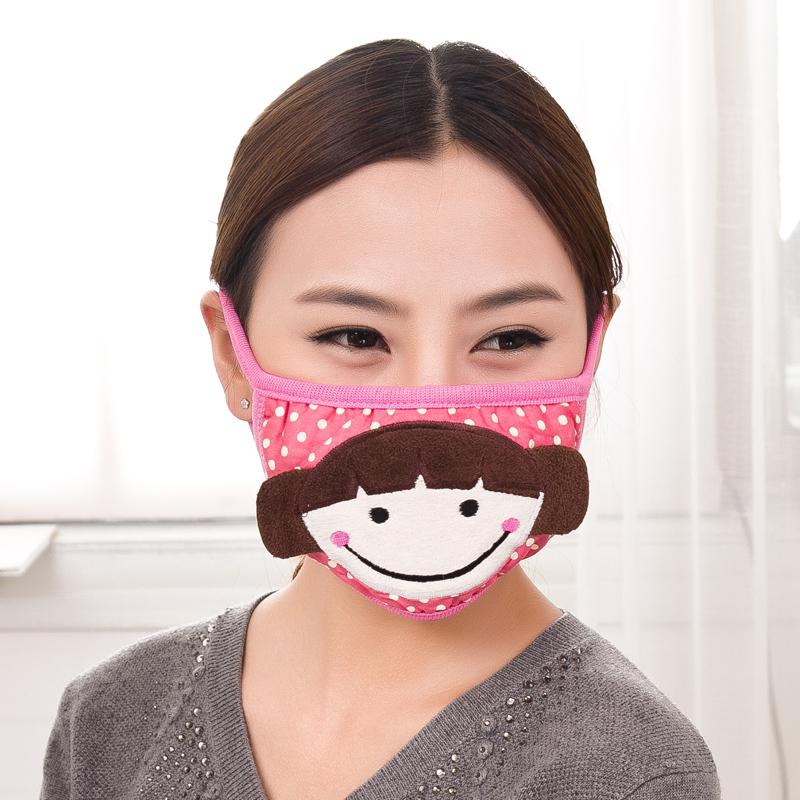OK: (256, 264, 596, 604)
